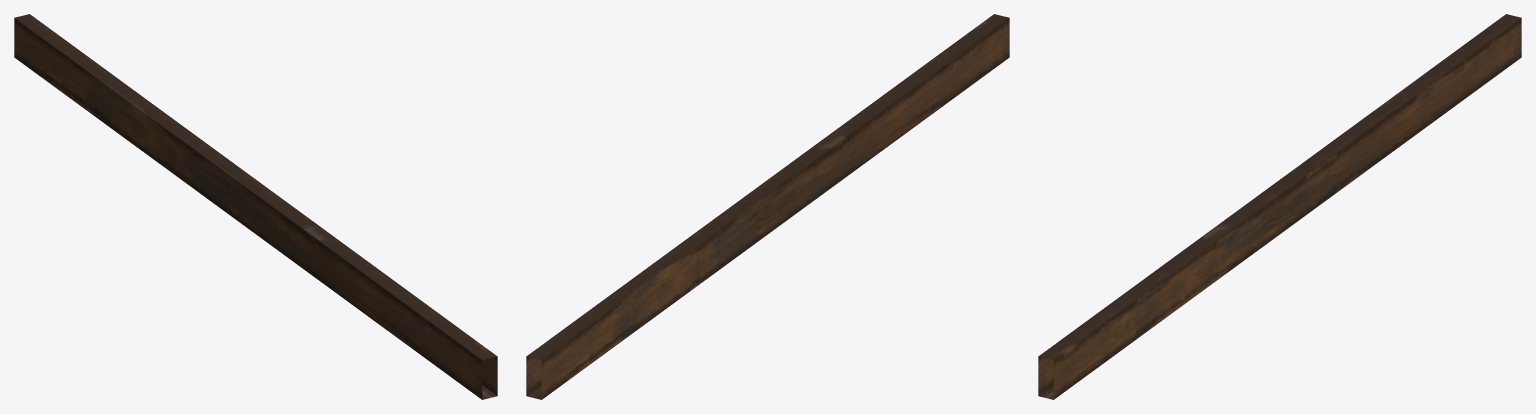
File: WoodenStick.fbx
3 views of the same model, side by side, from view 1: azimuth 30°, elevation 25°; view 2: azimuth 150°, elevation 25°; view 3: azimuth 330°, elevation 25° (orthographic).
Parts seen in each view (by area): view 1: SN_ceiling_wood_beam; view 2: SN_ceiling_wood_beam; view 3: SN_ceiling_wood_beam.
Part boxes in pixels (x1=…): SN_ceiling_wood_beam: x1=14, y1=14, x2=497, y2=399; SN_ceiling_wood_beam: x1=526, y1=14, x2=1009, y2=399; SN_ceiling_wood_beam: x1=1038, y1=14, x2=1521, y2=399.
Bounding box in the file's own units: 13.23 × 32.45 × 693.
Materials: 1 (1 with a texture image).
